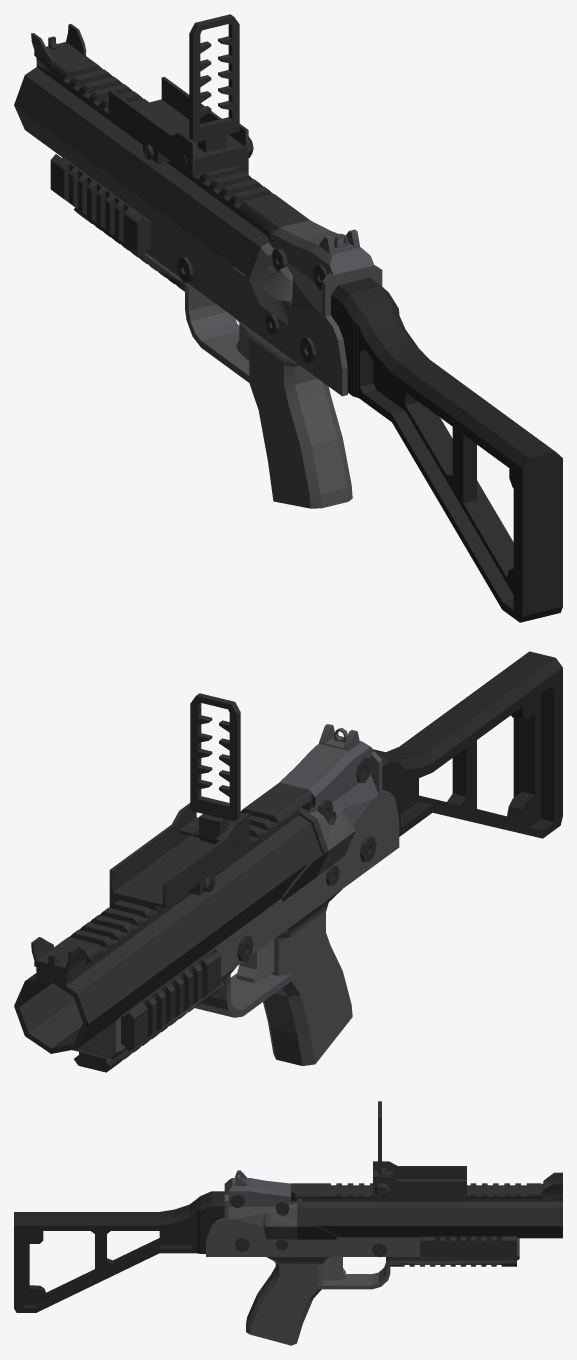
The picture shows the model from 3 angles, top to bottom: view 1: azimuth 30°, elevation 25°; view 2: azimuth 150°, elevation 25°; view 3: azimuth 270°, elevation 25°; orthographic projection. The views are drawn at different scales.
Visible parts, largest first — view 1: Stock, Barrel, Pistol_Grip, Body, Pic_Rail_Top, GL_Sights_Rail, GL_Sights, Pic_Rail_Left, Firing_Plate; view 2: Barrel, Stock, Body, Pistol_Grip, Pic_Rail_Top, GL_Sights_Rail, GL_Sights, Pic_Rail_Left, Firing_Plate, Pic_Rail_bot, Trigger, Rear_Sight; view 3: Stock, Barrel, Body, Pistol_Grip, Pic_Rail_Top, GL_Sights_Rail, Pic_Rail_Right, Firing_Plate, Pic_Rail_bot, GL_Sights, Trigger.
Boxes of the visible parts, x1=… form: Stock: x1=331, y1=277, x2=562, y2=622; Barrel: x1=14, y1=67, x2=267, y2=274; Pistol_Grip: x1=179, y1=277, x2=352, y2=508; Body: x1=72, y1=163, x2=382, y2=396; Pic_Rail_Top: x1=31, y1=24, x2=309, y2=242; GL_Sights_Rail: x1=108, y1=77, x2=248, y2=176; GL_Sights: x1=181, y1=14, x2=253, y2=165; Pic_Rail_Left: x1=50, y1=154, x2=150, y2=256; Firing_Plate: x1=223, y1=236, x2=292, y2=324; Barrel: x1=14, y1=815, x2=321, y2=1053; Stock: x1=373, y1=651, x2=562, y2=838; Body: x1=72, y1=736, x2=399, y2=1059; Pistol_Grip: x1=195, y1=889, x2=352, y2=1065; Pic_Rail_Top: x1=31, y1=782, x2=315, y2=985; GL_Sights_Rail: x1=109, y1=803, x2=249, y2=907; GL_Sights: x1=190, y1=693, x2=244, y2=847; Pic_Rail_Left: x1=121, y1=949, x2=220, y2=1051; Firing_Plate: x1=281, y1=806, x2=355, y2=901; Pic_Rail_bot: x1=74, y1=981, x2=224, y2=1072; Trigger: x1=236, y1=939, x2=274, y2=983; Rear_Sight: x1=319, y1=724, x2=359, y2=750; Stock: x1=14, y1=1191, x2=224, y2=1312; Barrel: x1=302, y1=1201, x2=562, y2=1238; Body: x1=206, y1=1178, x2=519, y2=1260; Pistol_Grip: x1=246, y1=1257, x2=390, y2=1345; Pic_Rail_Top: x1=291, y1=1172, x2=562, y2=1201; GL_Sights_Rail: x1=373, y1=1161, x2=466, y2=1201; Pic_Rail_Right: x1=420, y1=1236, x2=516, y2=1258; Firing_Plate: x1=263, y1=1198, x2=336, y2=1239; Pic_Rail_bot: x1=390, y1=1257, x2=516, y2=1266; GL_Sights: x1=375, y1=1101, x2=389, y2=1197; Trigger: x1=323, y1=1257, x2=345, y2=1280.
Size of the model in its own units: 0.0179 by 0.0858 by 0.1826.
Materials: 3 (3 with a texture image).
